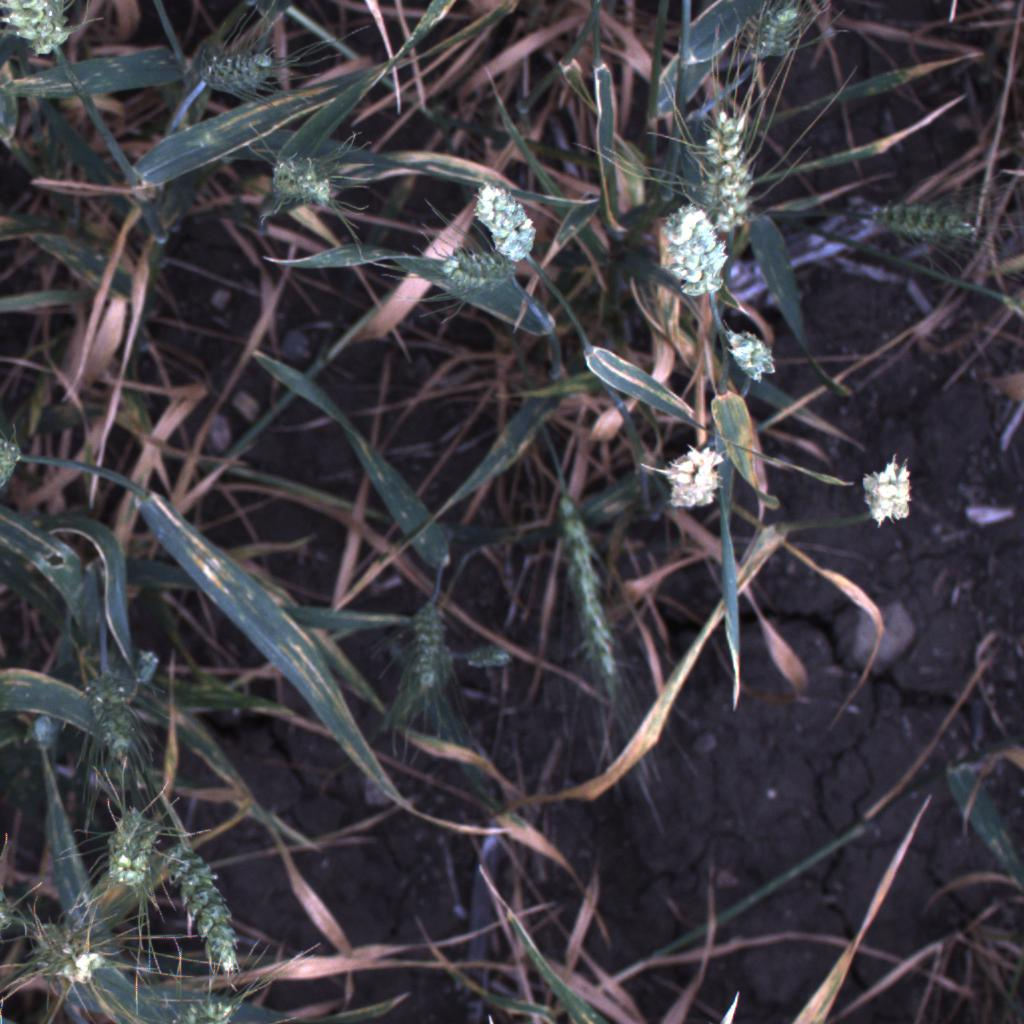0-0: (546, 476, 634, 694), (154, 832, 258, 978), (73, 653, 150, 773), (29, 893, 116, 995), (653, 417, 729, 527), (700, 94, 760, 233), (394, 600, 460, 721), (737, 0, 834, 79), (0, 0, 86, 86), (659, 203, 735, 296), (417, 244, 532, 304), (858, 195, 990, 245), (467, 174, 541, 263), (100, 797, 166, 892), (260, 146, 343, 220), (191, 36, 284, 95), (713, 325, 787, 392), (854, 453, 911, 532), (0, 842, 32, 962), (151, 986, 251, 1024), (0, 419, 24, 502)
